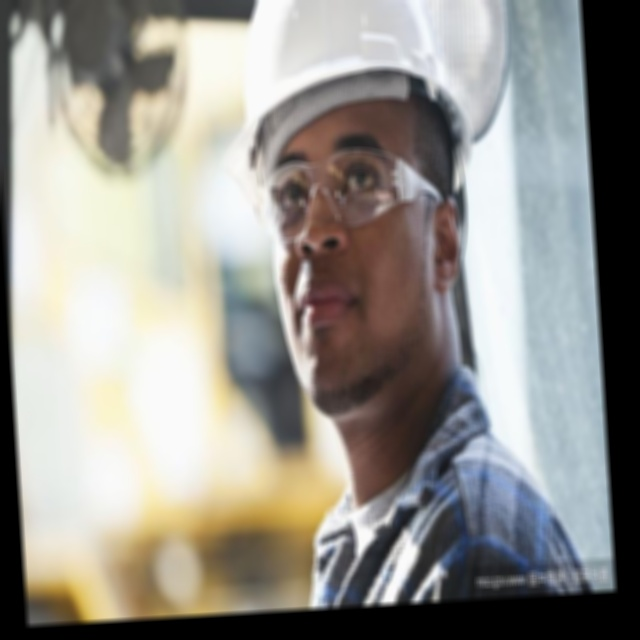Con_Casco: (212, 0, 474, 420)
